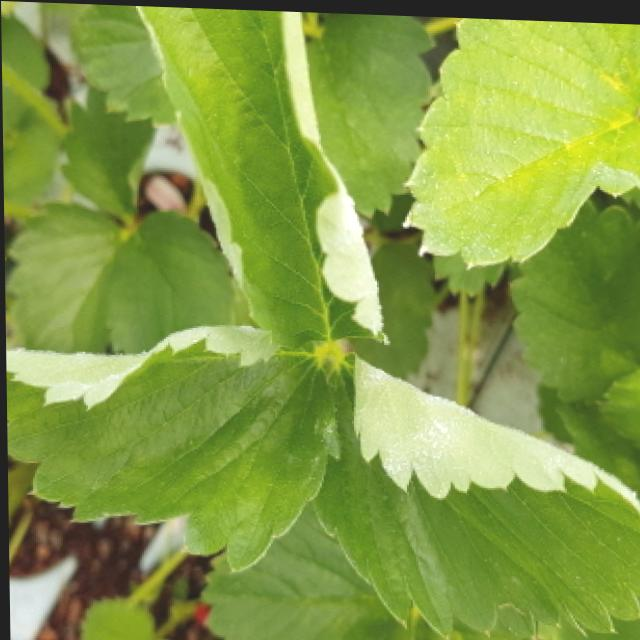Powdery Mildew Leaf: (304, 349, 640, 640), (133, 4, 384, 348), (4, 320, 337, 571)
